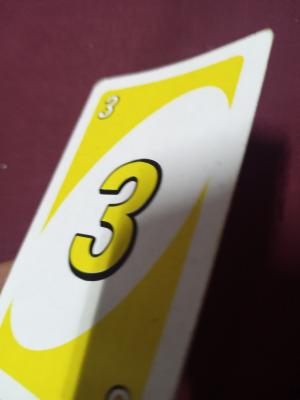num_3: (90, 88, 130, 155)
yellow: (65, 158, 172, 297)
